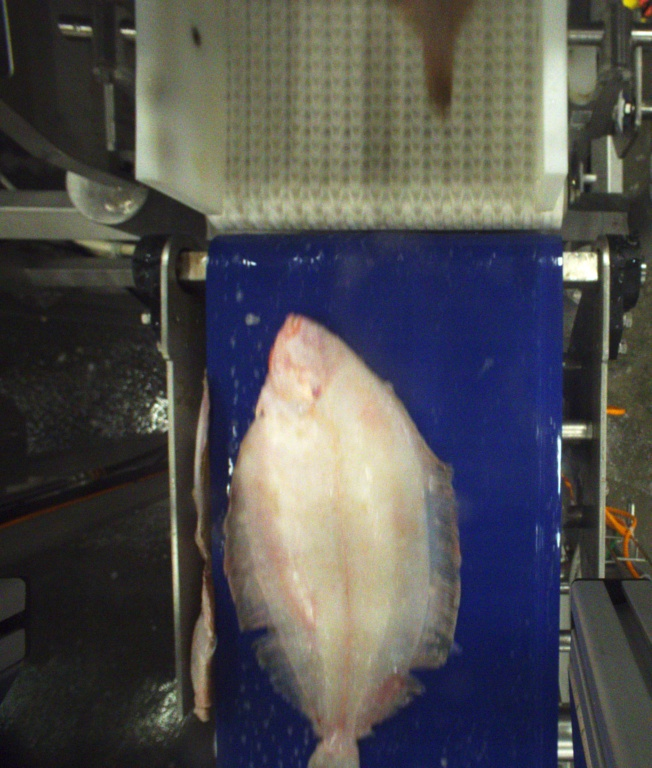WIT: (387, 0, 466, 120)
